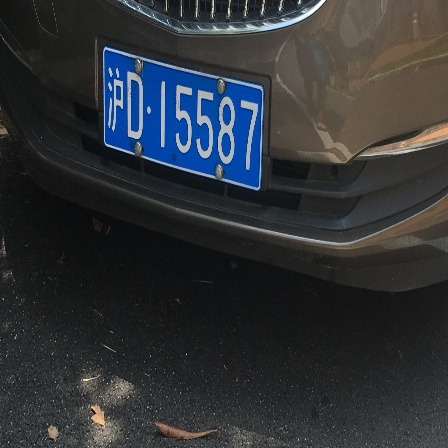plate: (98, 43, 267, 193)
